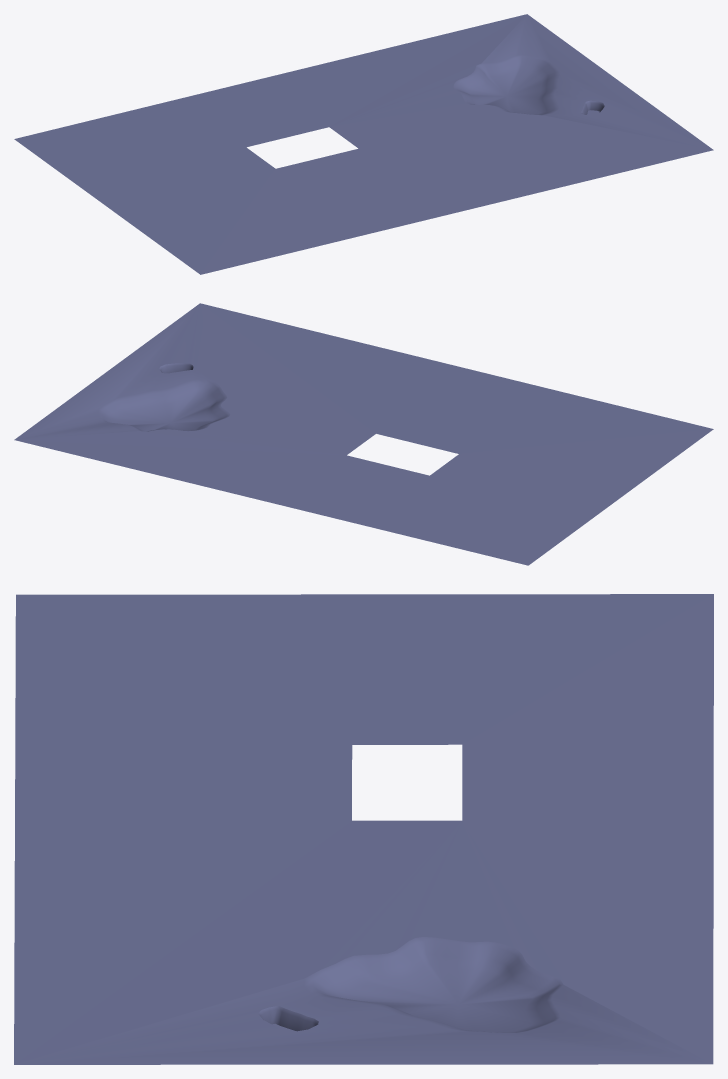
The model's file is sol-jardin-2.FBX.
The picture shows the model from 3 angles, top to bottom: view 1: azimuth 30°, elevation 25°; view 2: azimuth 150°, elevation 25°; view 3: azimuth 270°, elevation 25°; orthographic projection. The views are drawn at different scales.
Visible parts, largest first — view 1: soljardin; view 2: soljardin; view 3: soljardin.
Part boxes in pixels (x1,y1,x2,y2): soljardin: (14, 14, 713, 274); soljardin: (14, 303, 713, 565); soljardin: (14, 594, 713, 1064).
Bounding box in the file's own units: 3422 × 75.96 × 2150.
